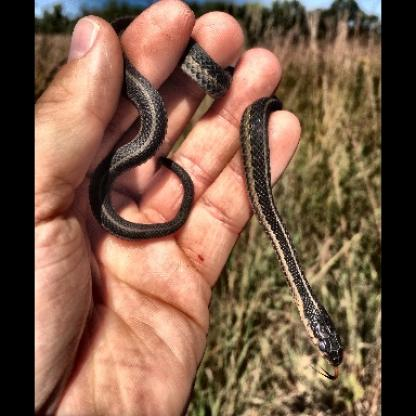Snake: (121, 64, 350, 380)
